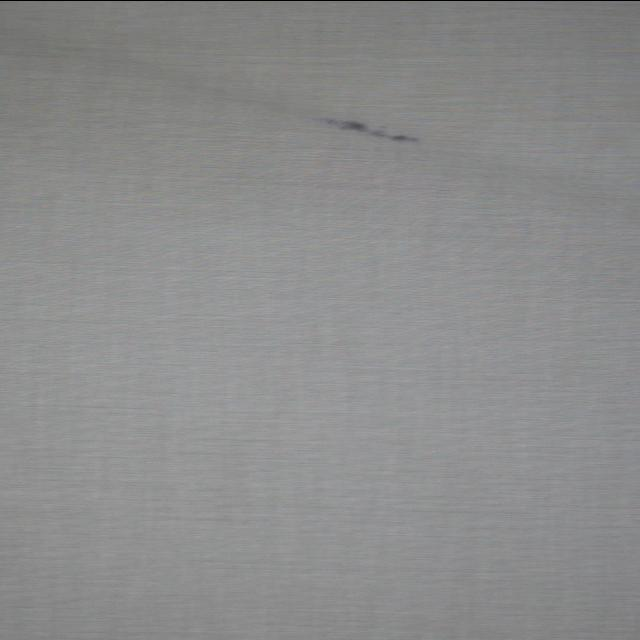dirty: (314, 115, 417, 143)
